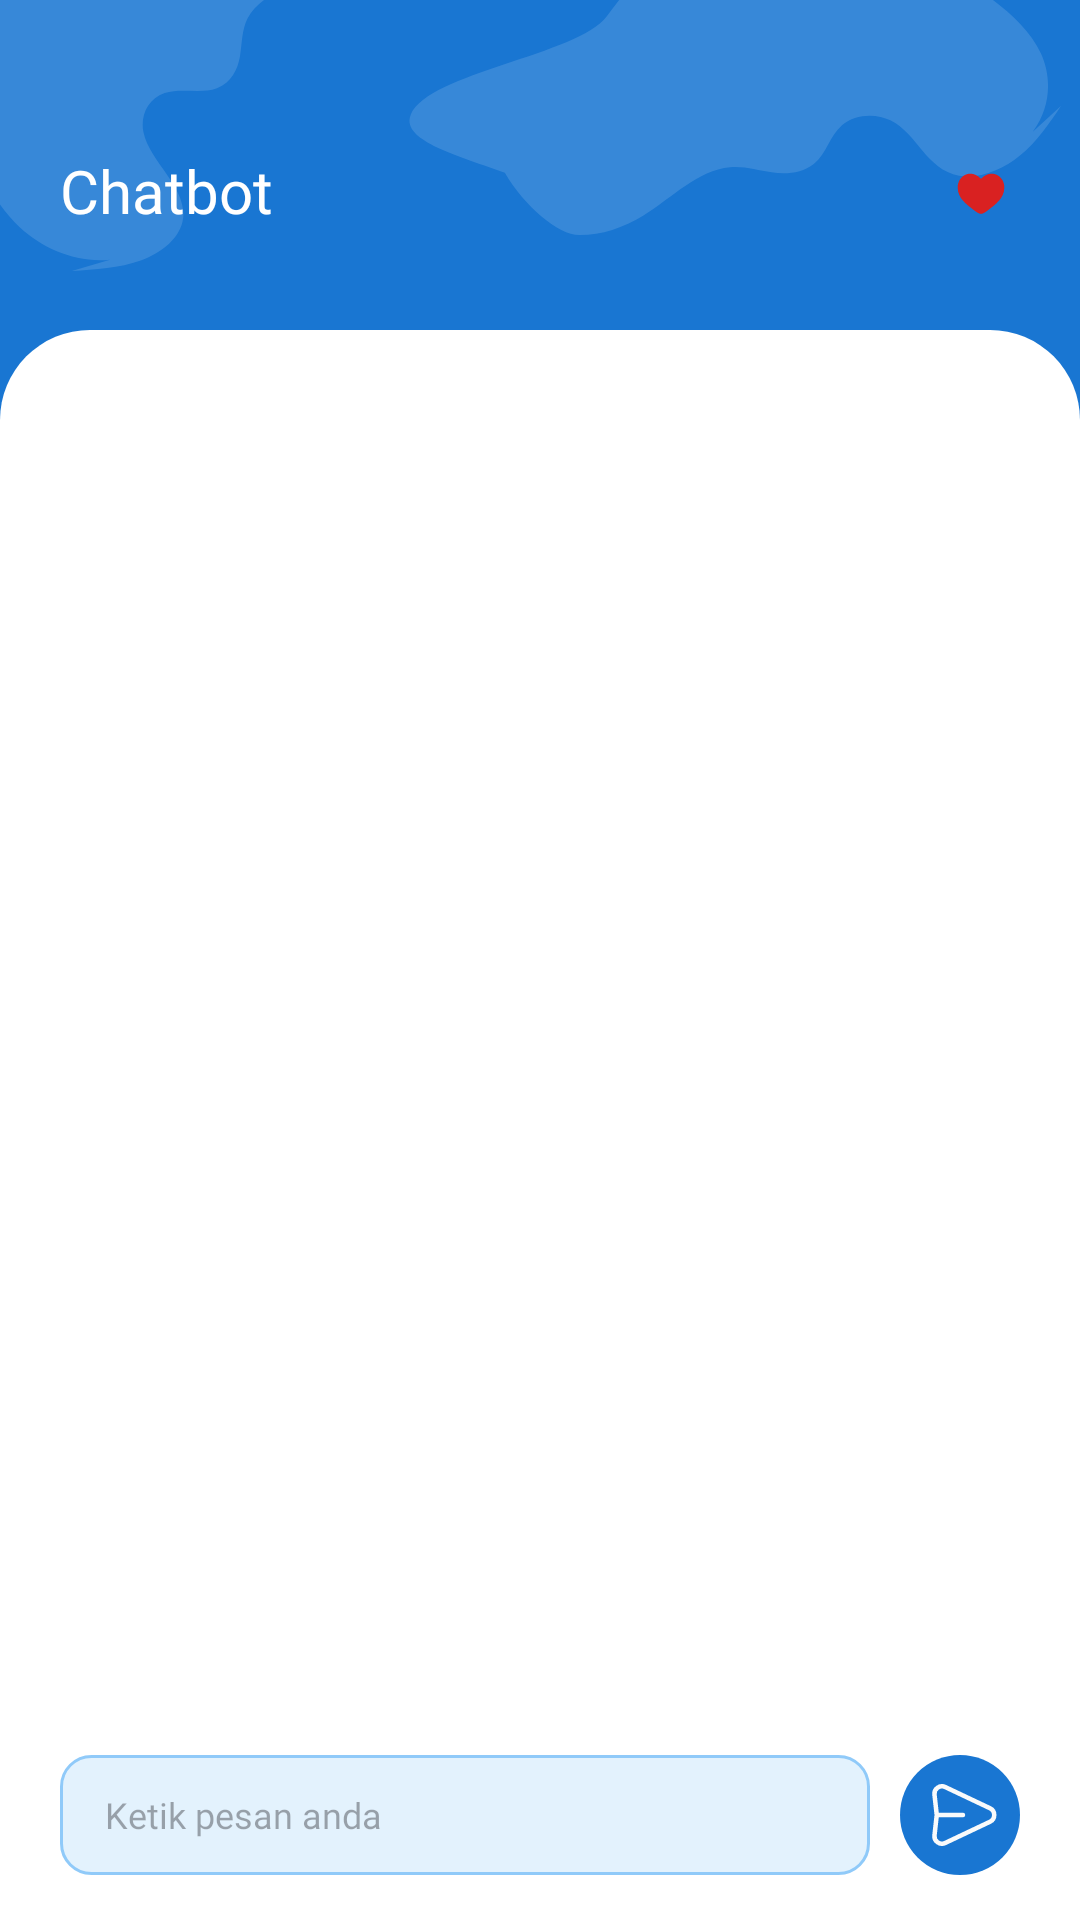

Screen size 1080*1920. Icon name, then its box in pixels as (x1, y1, x2, y2):
Ikon Kesehatan Mental: (957, 168, 1005, 214)
Ikon Kirim Pesan: (900, 1755, 1020, 1875)
